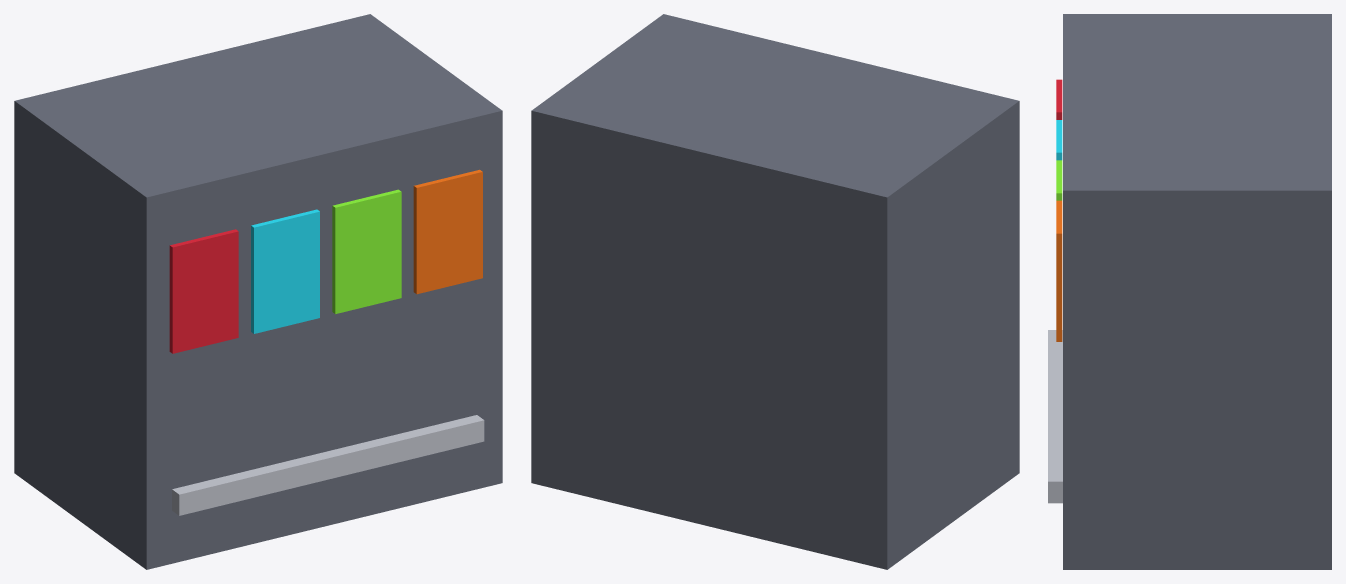
The model's file is SodaFountain.obj.
3 renders of one model, left to right at view 1: azimuth 30°, elevation 25°; view 2: azimuth 150°, elevation 25°; view 3: azimuth 270°, elevation 25°, orthographic.
Visible parts, largest first — view 1: SodaFountain; view 2: SodaFountain; view 3: SodaFountain.
Boxes of the visible parts, x1,y1,x2,y2 form: SodaFountain: (14, 14, 502, 569); SodaFountain: (531, 14, 1019, 569); SodaFountain: (1048, 14, 1331, 569).
Size of the model in its own units: 0.7 by 0.7 by 0.475.
Materials: 6 (6 with a texture image).
